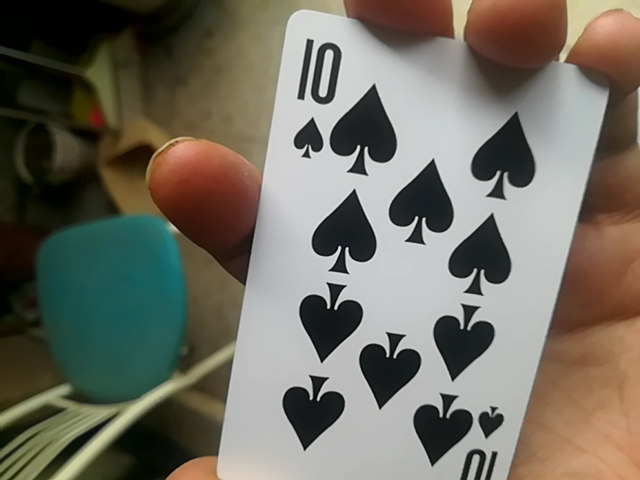ht 10: (227, 3, 617, 480)
